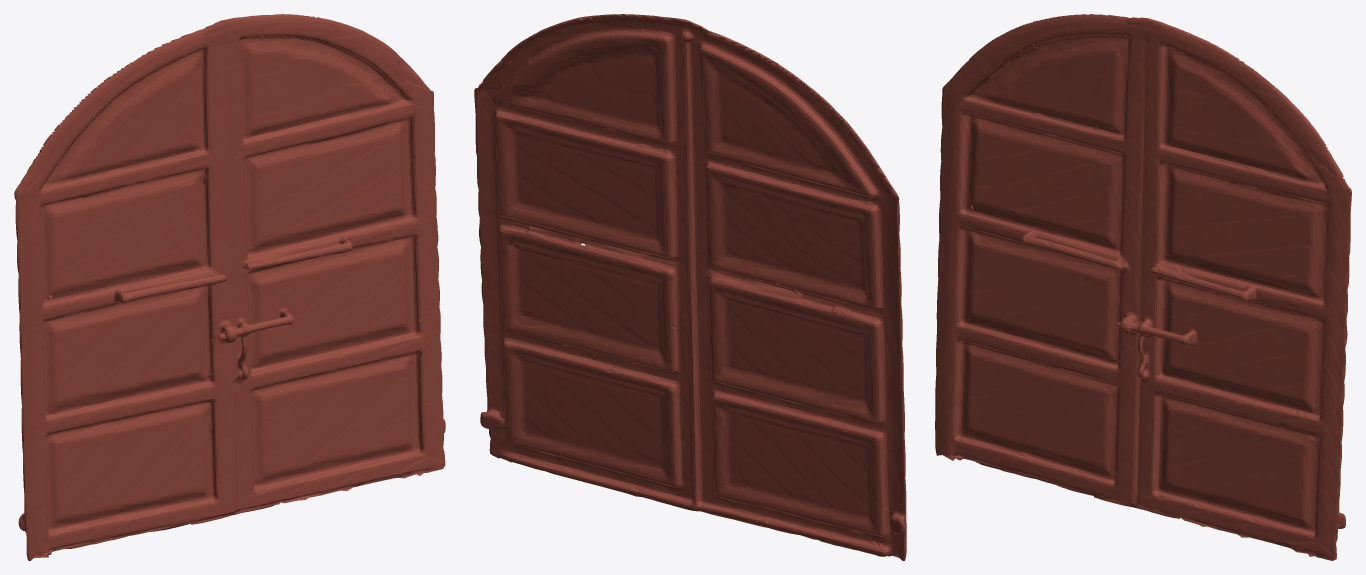
File: gate1.glb
The picture shows the model from 3 angles, left to right: view 1: azimuth 30°, elevation 25°; view 2: azimuth 150°, elevation 25°; view 3: azimuth 330°, elevation 25°; orthographic projection. The views are drawn at different scales.
Visible parts, largest first — view 1: white-mesh-gate; view 2: white-mesh-gate; view 3: white-mesh-gate.
Boxes of the visible parts, x1,y1,x2,y2 form: white-mesh-gate: [14, 14, 445, 560]; white-mesh-gate: [474, 14, 906, 560]; white-mesh-gate: [935, 14, 1351, 560].
Size of the model in its own units: 1.75 by 1.94 by 0.1502.
